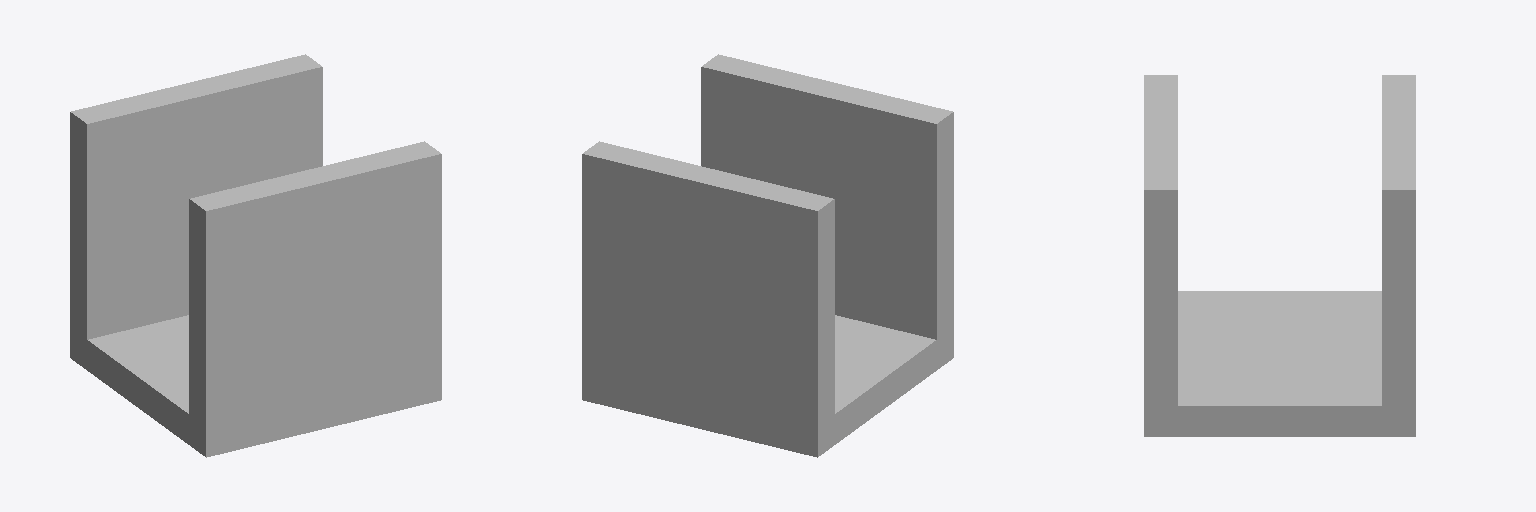
File: PieceU.obj
3 renders of one model, left to right at view 1: azimuth 30°, elevation 25°; view 2: azimuth 150°, elevation 25°; view 3: azimuth 270°, elevation 25°, orthographic.
Visible parts, largest first — view 1: U-Piece_Cube.016; view 2: U-Piece_Cube.016; view 3: U-Piece_Cube.016.
Part boxes in pixels (left/top/right/bottom): U-Piece_Cube.016: left=70, top=54, right=441, bottom=457; U-Piece_Cube.016: left=582, top=54, right=953, bottom=457; U-Piece_Cube.016: left=1144, top=75, right=1415, bottom=436.
Size of the model in its own units: 2 by 2 by 2.